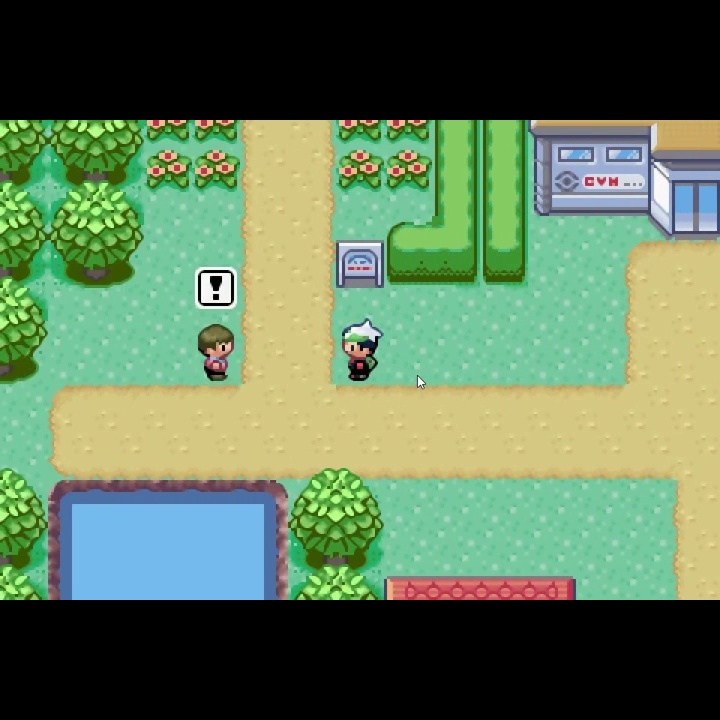gym: (526, 120, 720, 241)
npc: (338, 316, 386, 385), (194, 323, 235, 386)
wall: (47, 180, 144, 289), (288, 467, 385, 568), (48, 121, 145, 184), (1, 277, 48, 385), (1, 180, 49, 282), (1, 467, 48, 566), (289, 565, 384, 599), (1, 119, 48, 183), (1, 561, 47, 600)
